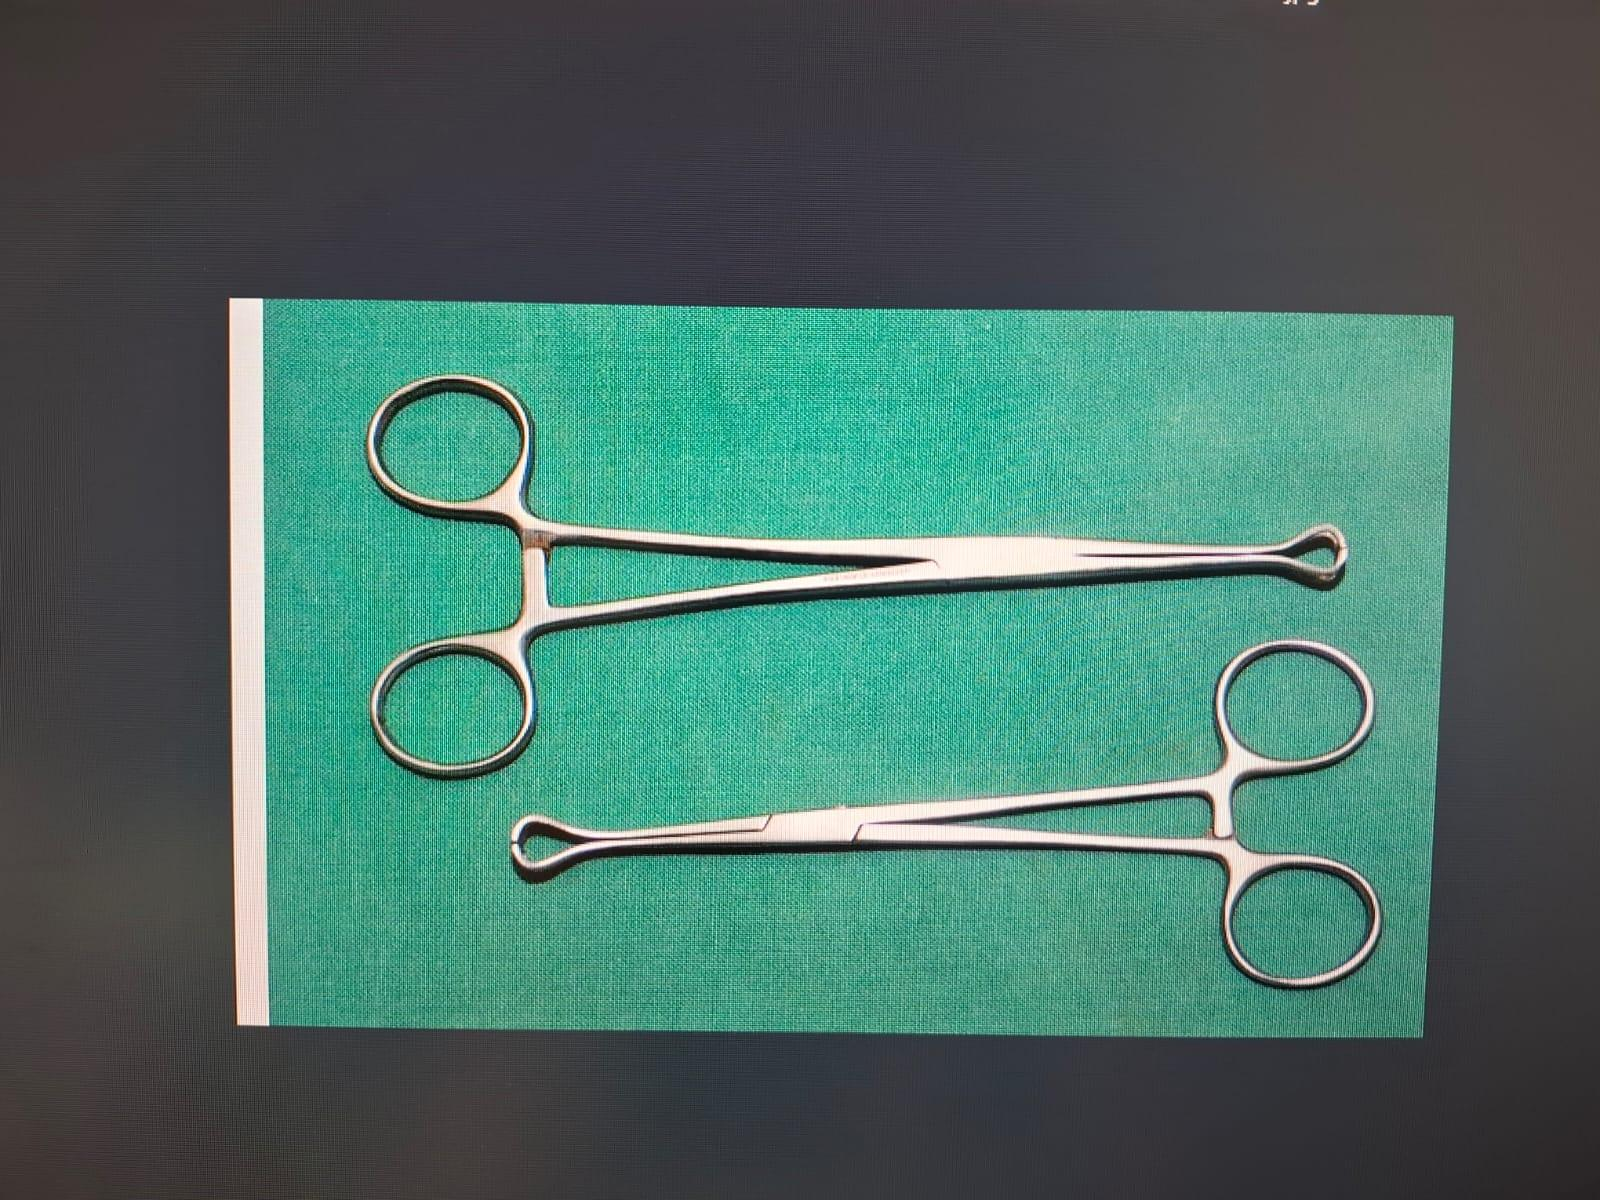Babcock Forceps: (350, 358, 1362, 794), (500, 634, 1410, 1005)
